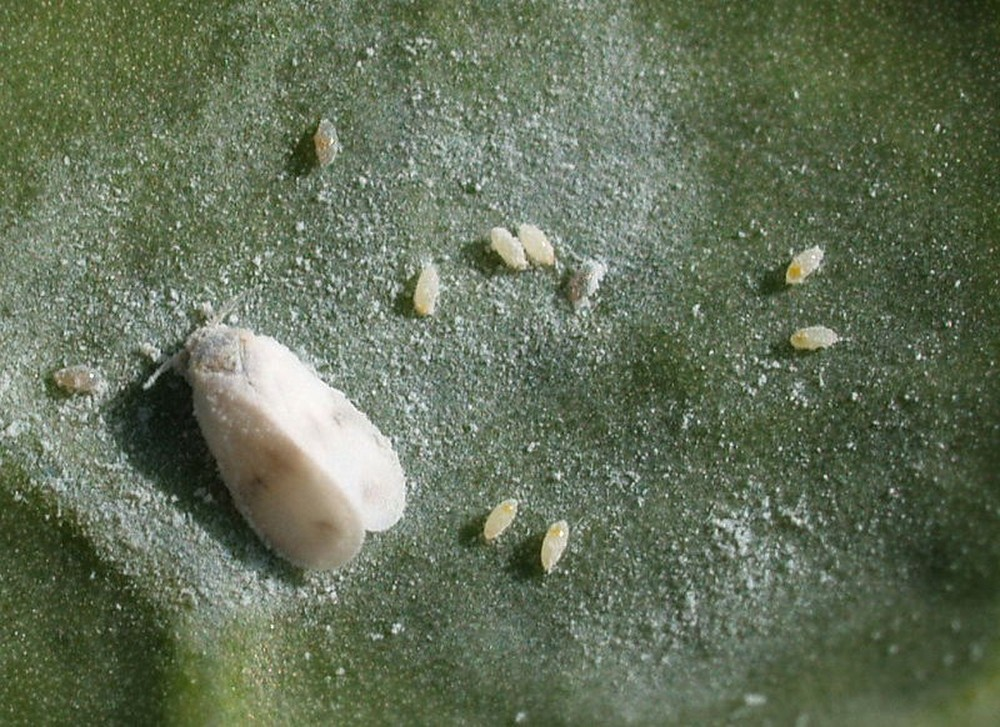Mosca Blanca: (132, 294, 431, 600)
